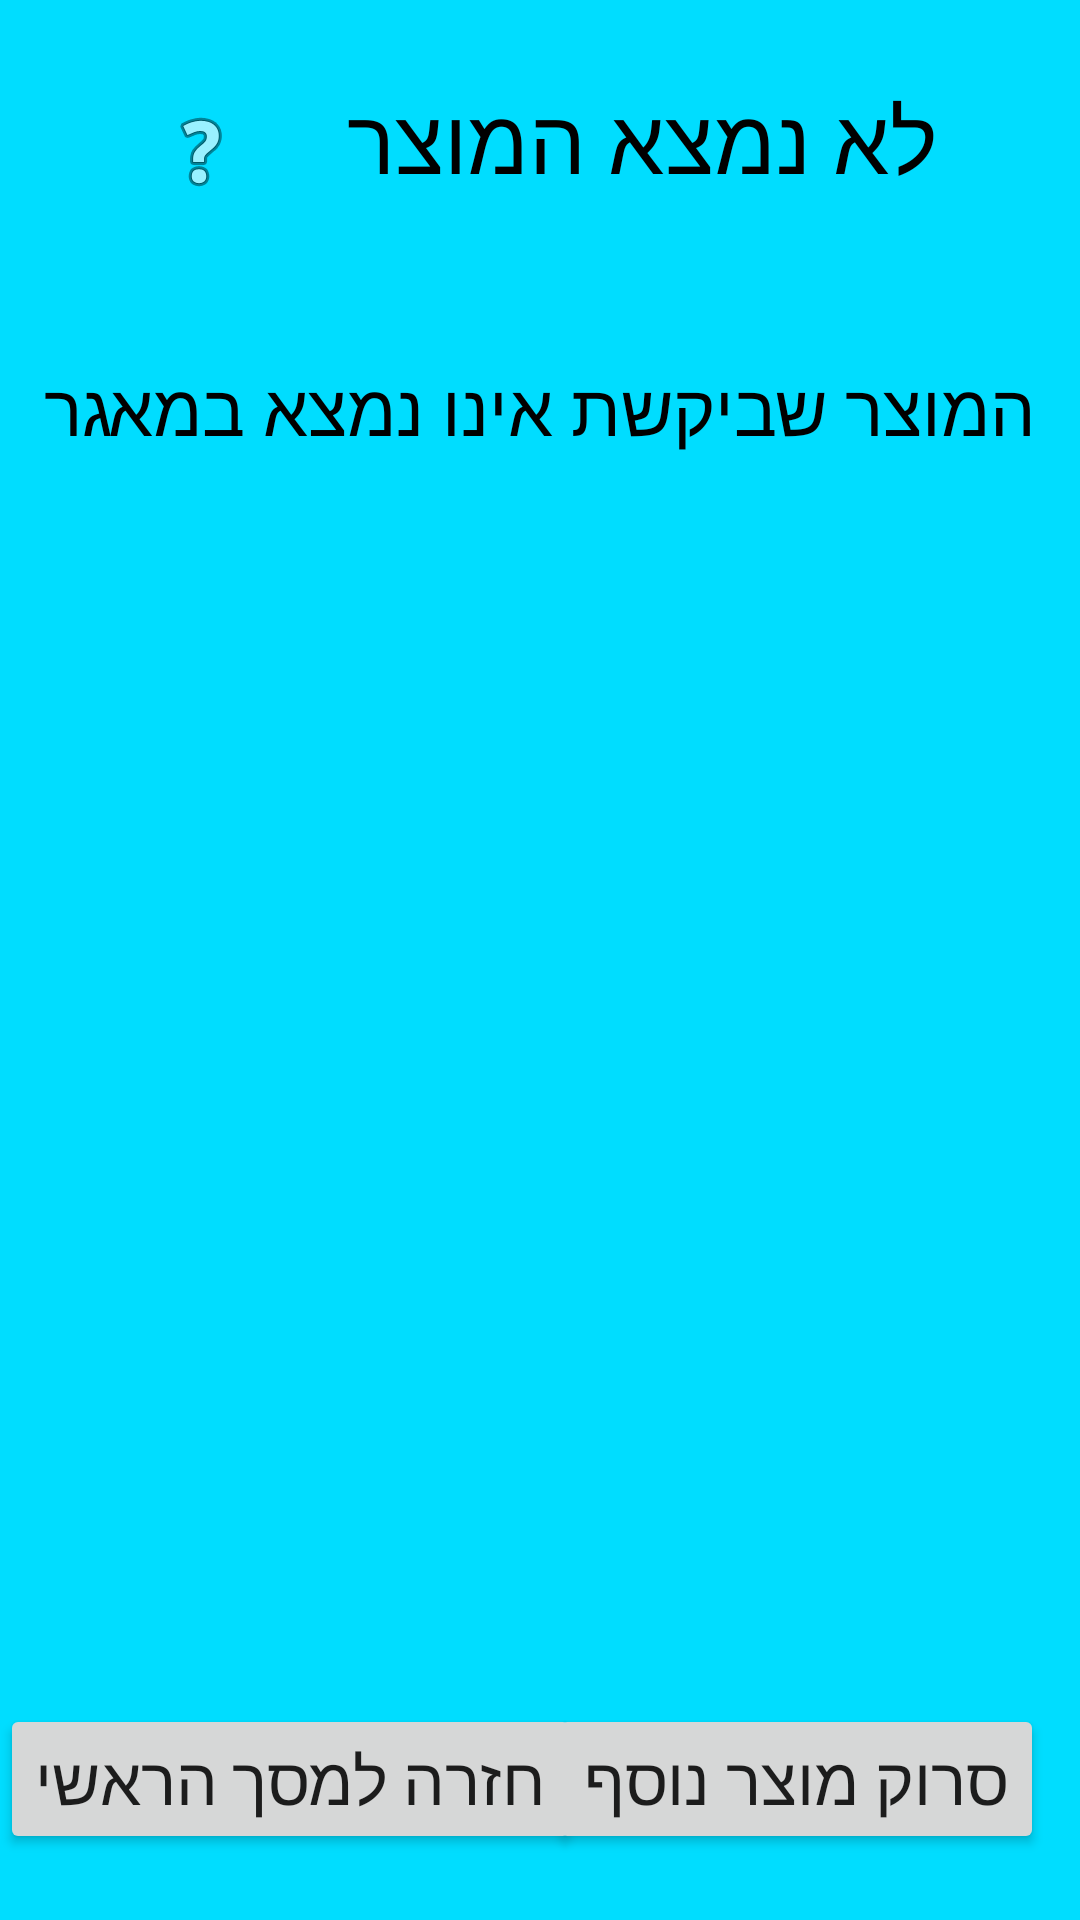

Where to tap for icons on this 1080px x 1920px app screen, as [x,y]:
help: [201,152]
